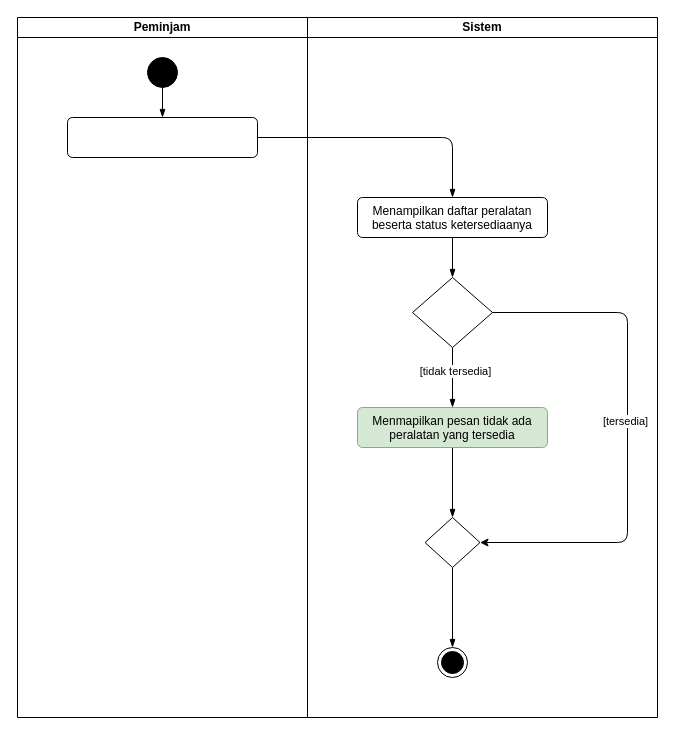
This 675x735 diagram has some shape labels left out. Here are the shapes that lost their labels. From the top down, the box of each, then its label:
(66, 116, 258, 158): Membuka fungsi lihat ketersediaan peralatan
(412, 276, 492, 348): Peralatan tersedia?
